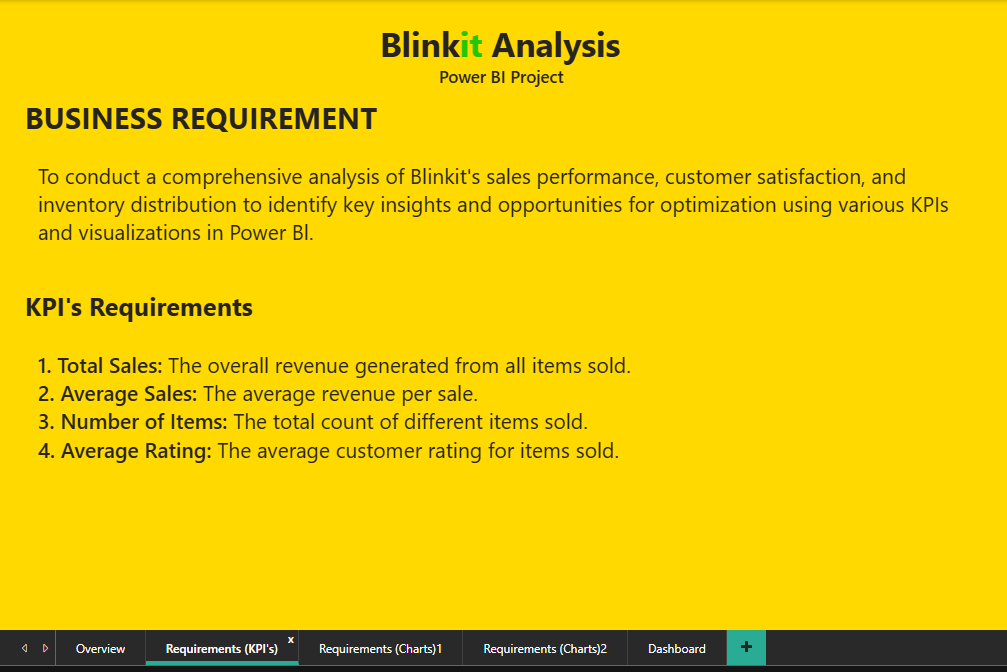

The dashboard page shown, as its layout file describes it:
{"tool":"powerbi","page":{"name":"Requirements (KPI's)","canvas":[1280,800],"ordinal":1},"visuals":[{"type":"textbox","box":[479.4,21.7,321.3,79],"z":0},{"type":"textbox","box":[553.3,77.8,173.4,42.1],"z":1000},{"type":"textbox","box":[28,119.8,648.9,79],"z":1001},{"type":"textbox","box":[44.6,198.9,1190.8,141.5],"z":1002},{"type":"textbox","box":[28,360.8,648.9,79],"z":1003},{"type":"textbox","box":[44.6,439.8,1190.8,200.2],"z":1004}]}

Visuals, with their boxes on the page's 1280x800 design canvas (x1, y1, x2, y2). These are canvas units, not pixel positions in the 1007x672 screenshot, which may show the page scaled, cropped or inside an application window:
textbox: Rect(479, 22, 801, 101)
textbox: Rect(553, 78, 727, 120)
textbox: Rect(28, 120, 677, 199)
textbox: Rect(45, 199, 1235, 340)
textbox: Rect(28, 361, 677, 440)
textbox: Rect(45, 440, 1235, 640)
